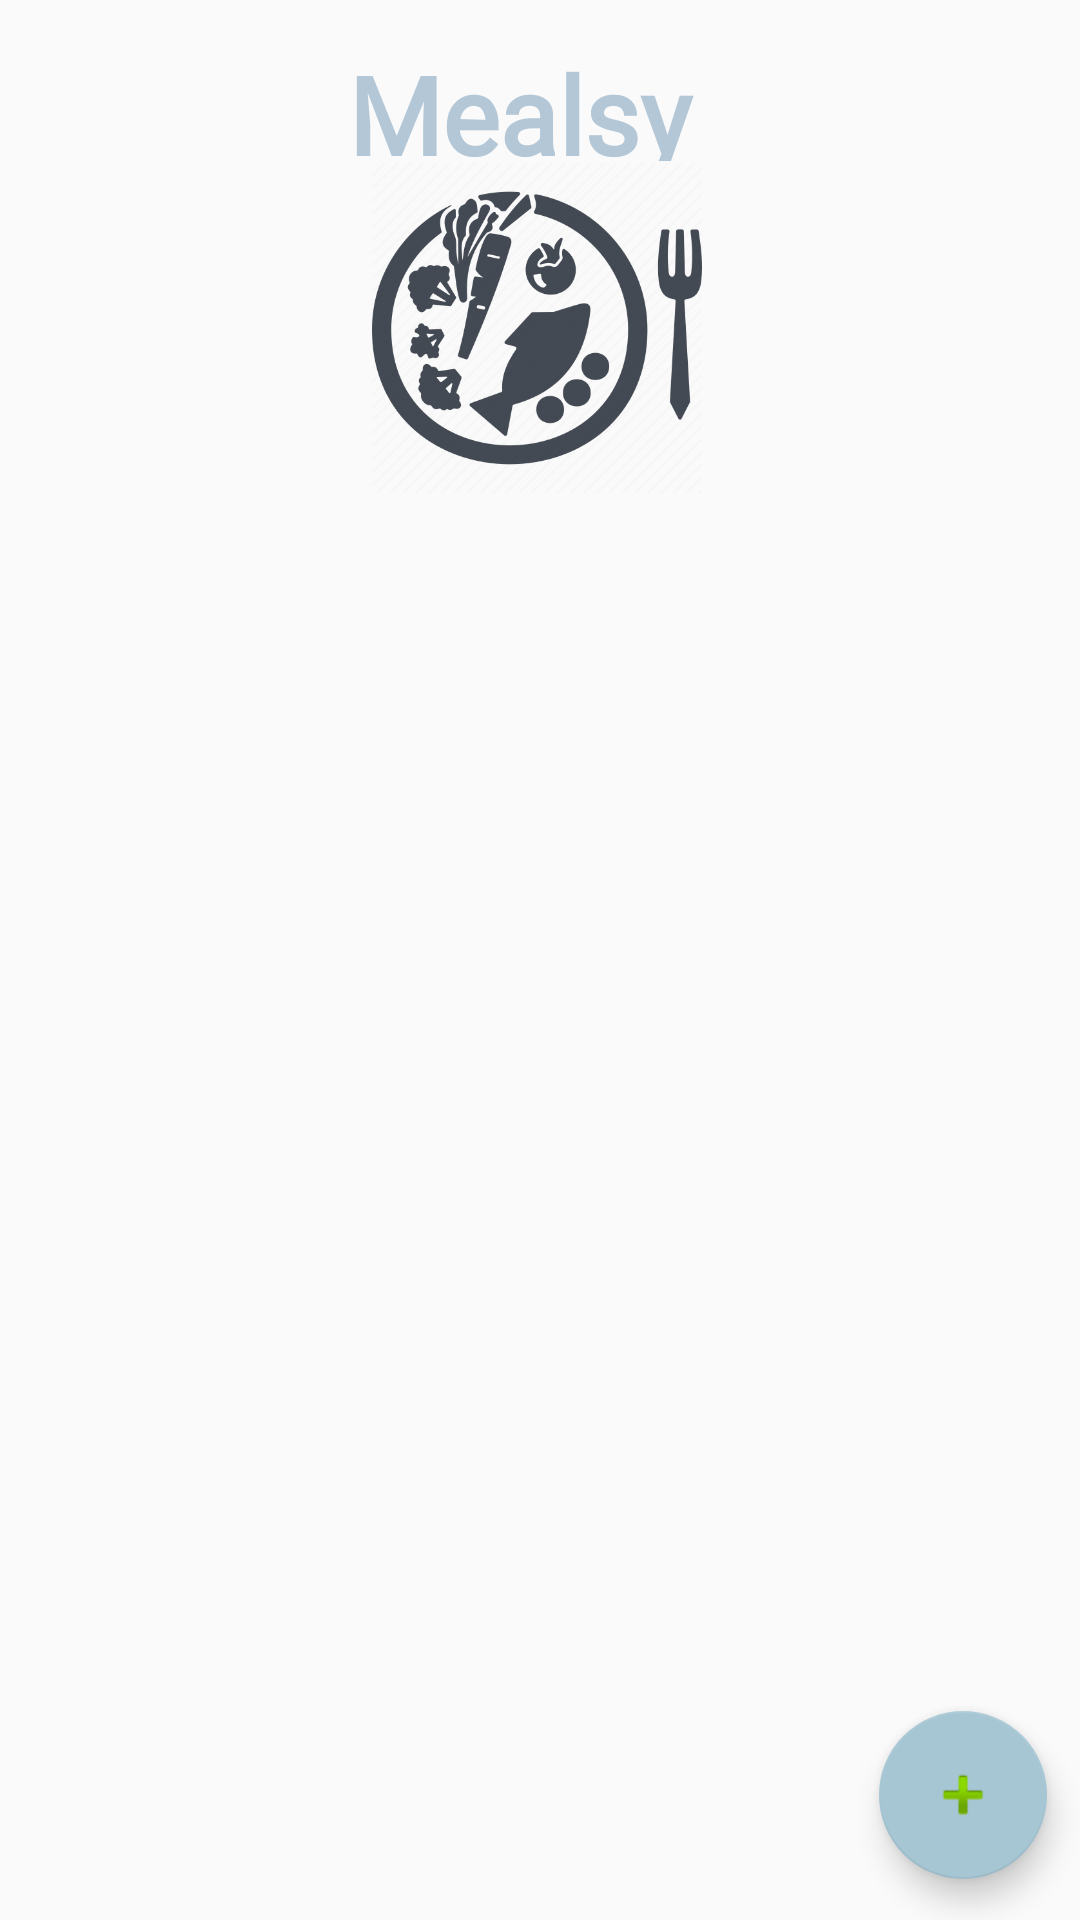

Named icons in this screenshot (1080*1920) and their bounding boxes, (x1, y1, x2, y2):
add: (879, 1711, 1047, 1879)
